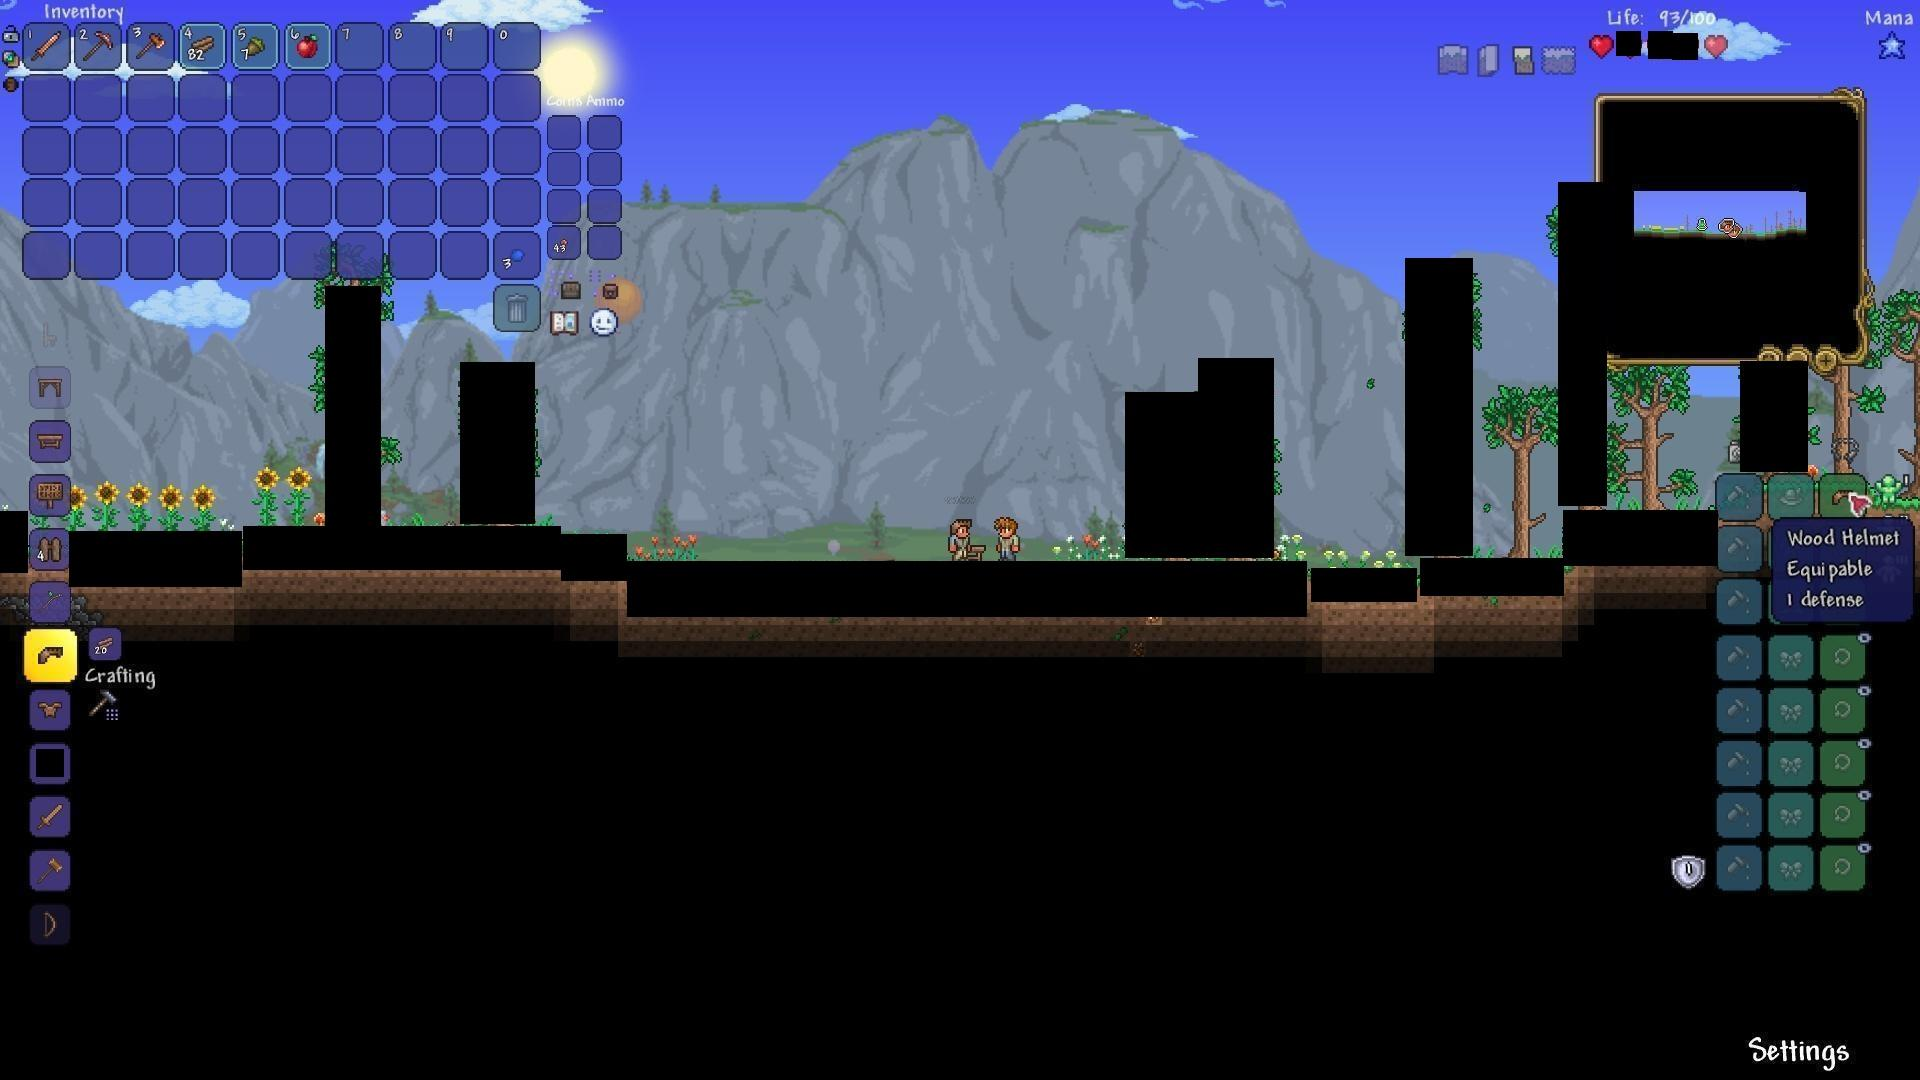breastplate: (36, 699, 65, 720)
heart: (1704, 34, 1727, 58), (1590, 32, 1613, 54)
helmet: (33, 638, 65, 666), (1834, 483, 1861, 508)
tree: (1480, 371, 1556, 556), (1615, 363, 1687, 510), (1820, 364, 1887, 473)
wood: (187, 34, 214, 59), (92, 633, 117, 658)
workbench: (959, 542, 996, 567), (28, 429, 65, 454)
